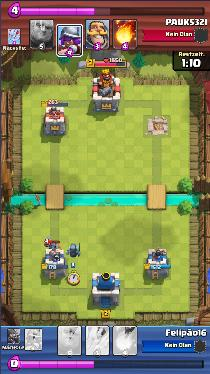ally_mini_pekka: (66, 244, 81, 257)
enemy_mini_pekka: (45, 241, 59, 249)
